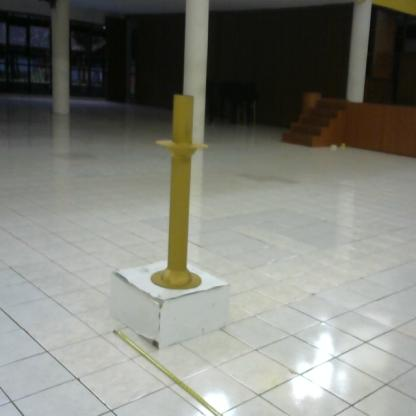pole: (148, 94, 212, 296)
